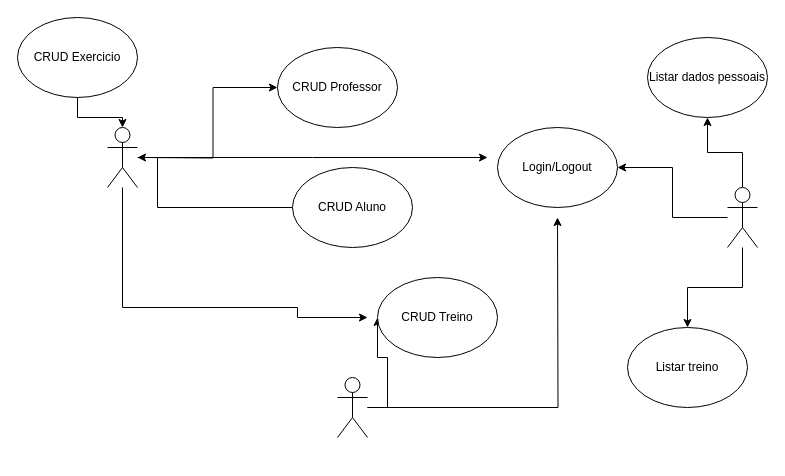
Image size: 785x476. Some labels were removed from this diagram. The shapes that lost their labels are listed below. From the top down, each one's centre as x and y in pixels, then its label:
At (x=122, y=157): "Administrador".
At (x=742, y=217): "Aluno".
At (x=352, y=407): "Professor".
